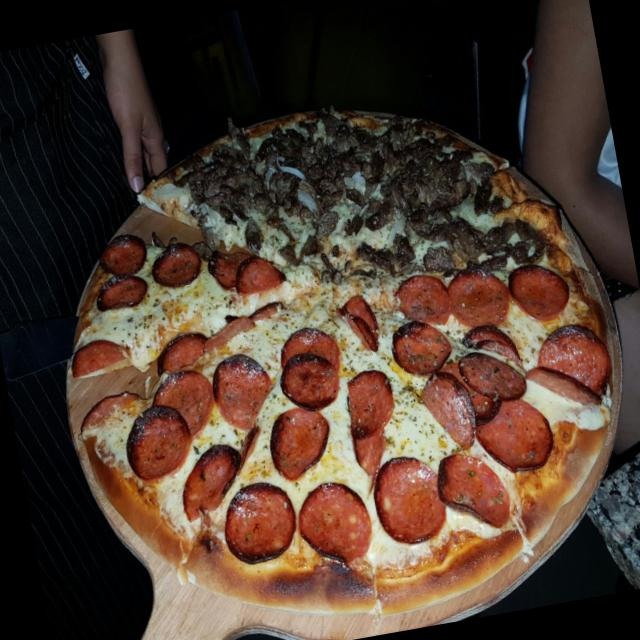pizza: (22, 67, 639, 639)
